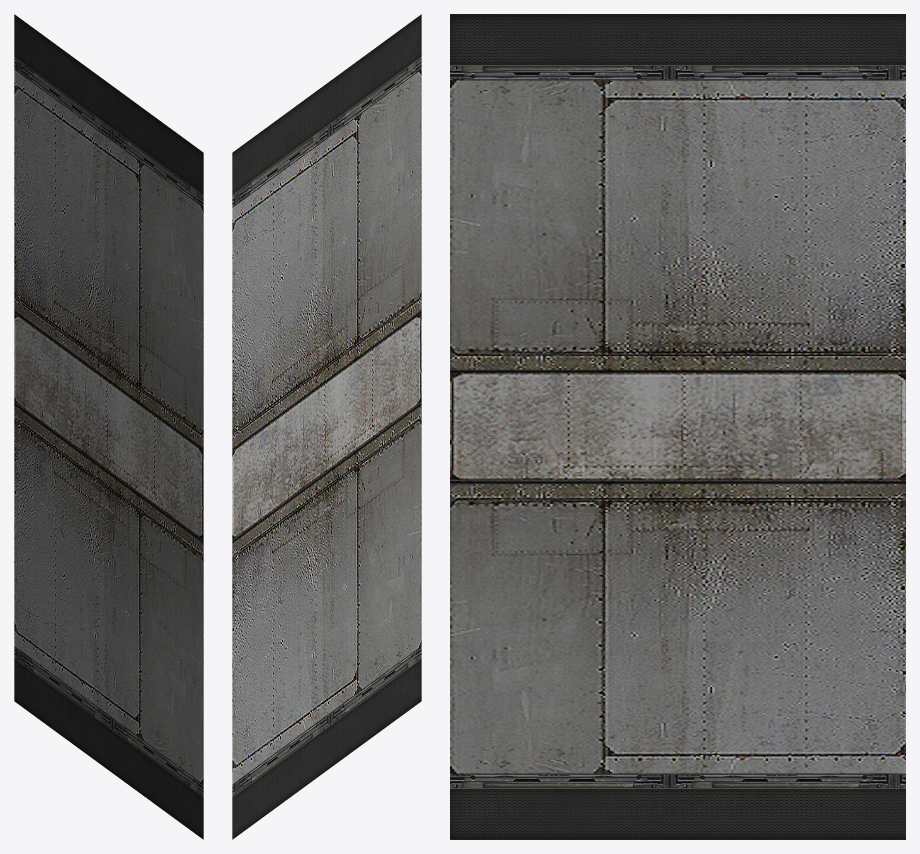
The model's file is Wall_A_Mid4mts_05.fbx.
3 renders of one model, left to right at view 1: azimuth 30°, elevation 25°; view 2: azimuth 150°, elevation 25°; view 3: azimuth 270°, elevation 25°, orthographic. The views are drawn at different scales.
Visible parts, largest first — view 1: Wall_A_Mid4mts_05; view 2: Wall_A_Mid4mts_05; view 3: Wall_A_Mid4mts_05.
Boxes of the visible parts, <box> form: Wall_A_Mid4mts_05: <box>14,14,203,839</box>; Wall_A_Mid4mts_05: <box>232,14,421,839</box>; Wall_A_Mid4mts_05: <box>450,14,905,839</box>.
Bounding box in the file's own units: 0.000244 × 400 × 200.
Materials: 1 (1 with a texture image).
